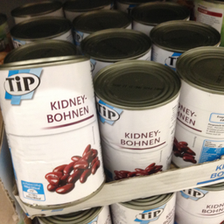beans: (1, 61, 104, 208), (100, 62, 182, 182)
